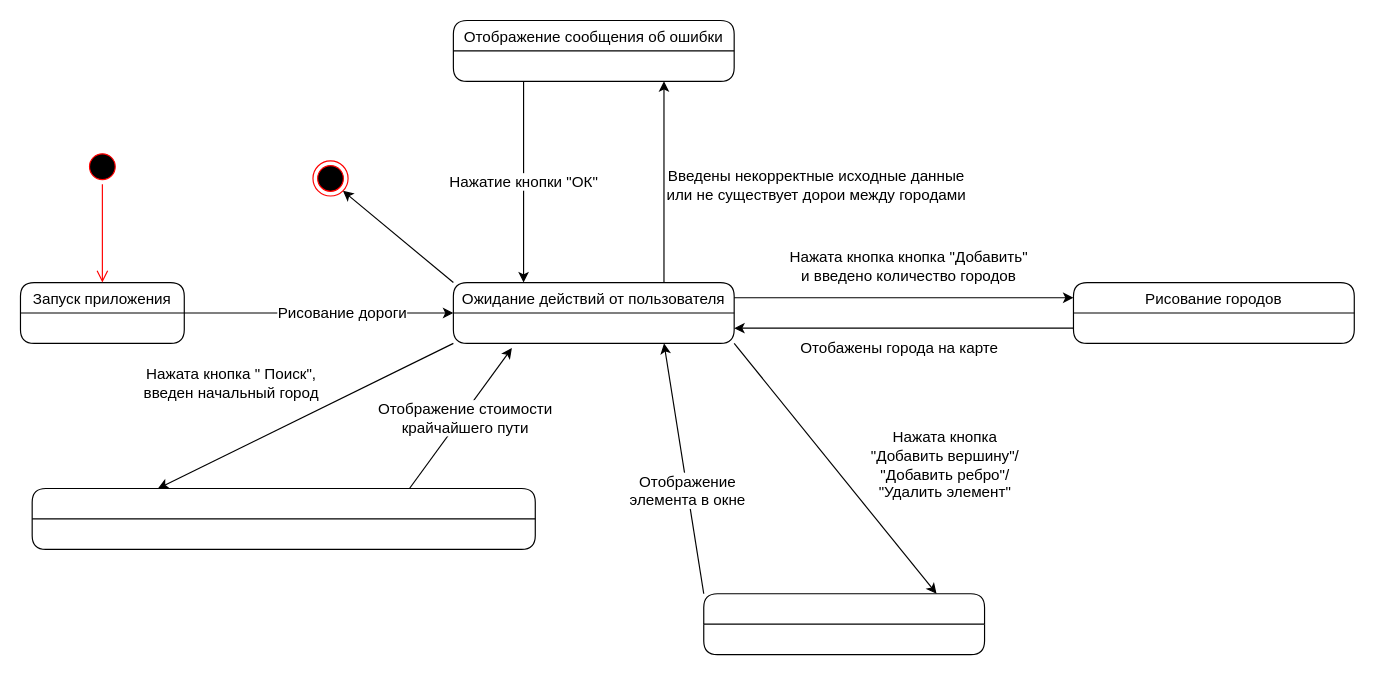
This 1375x675 diagram has some shape labels left out. The centre of each missing label's shape, as x and y in pixels:
"Поиск кратчайшего пути, проходящего по всем вершинам 1 раз" belongs at (x=283, y=518).
"Рисование или удаление элемента" belongs at (x=844, y=624).
